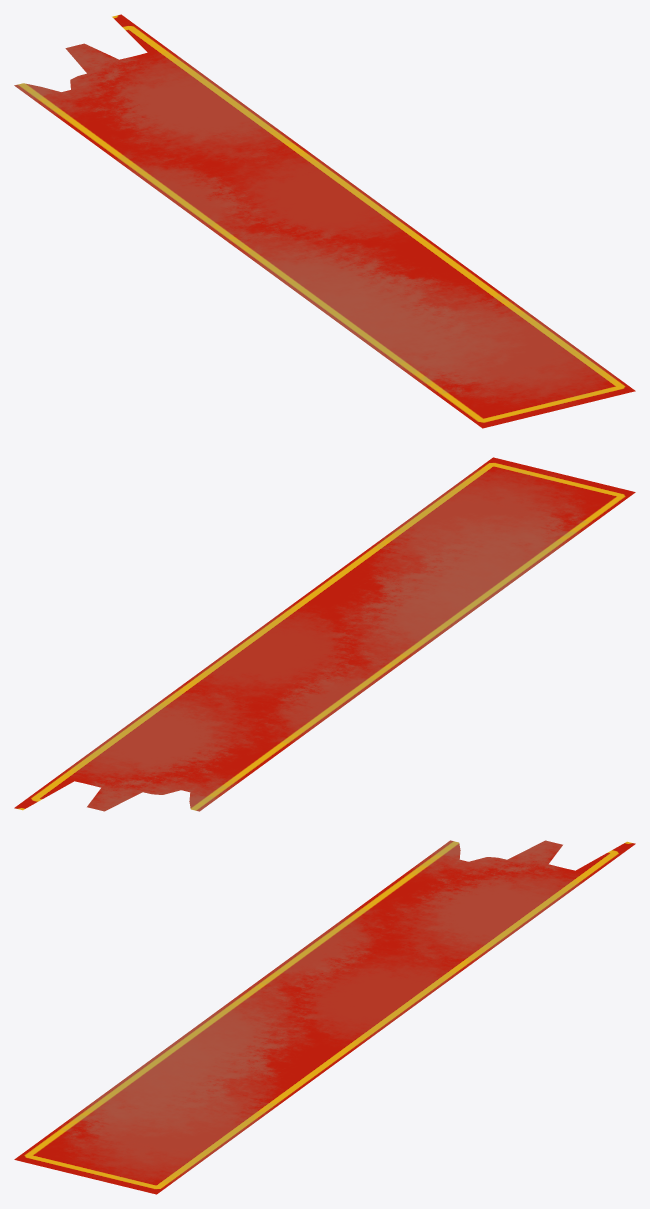
The model's file is BrokenCarpet.fbx.
The picture shows the model from 3 angles, top to bottom: view 1: azimuth 30°, elevation 25°; view 2: azimuth 150°, elevation 25°; view 3: azimuth 330°, elevation 25°; orthographic projection. The views are drawn at different scales.
Parts seen in each view (by area): view 1: CarpetBroken; view 2: CarpetBroken; view 3: CarpetBroken.
Boxes of the visible parts, x1,y1,x2,y2 form: CarpetBroken: [14, 14, 635, 428]; CarpetBroken: [14, 457, 635, 811]; CarpetBroken: [14, 840, 635, 1194].
Bounding box in the file's own units: 403 × 0.000384 × 2342.
